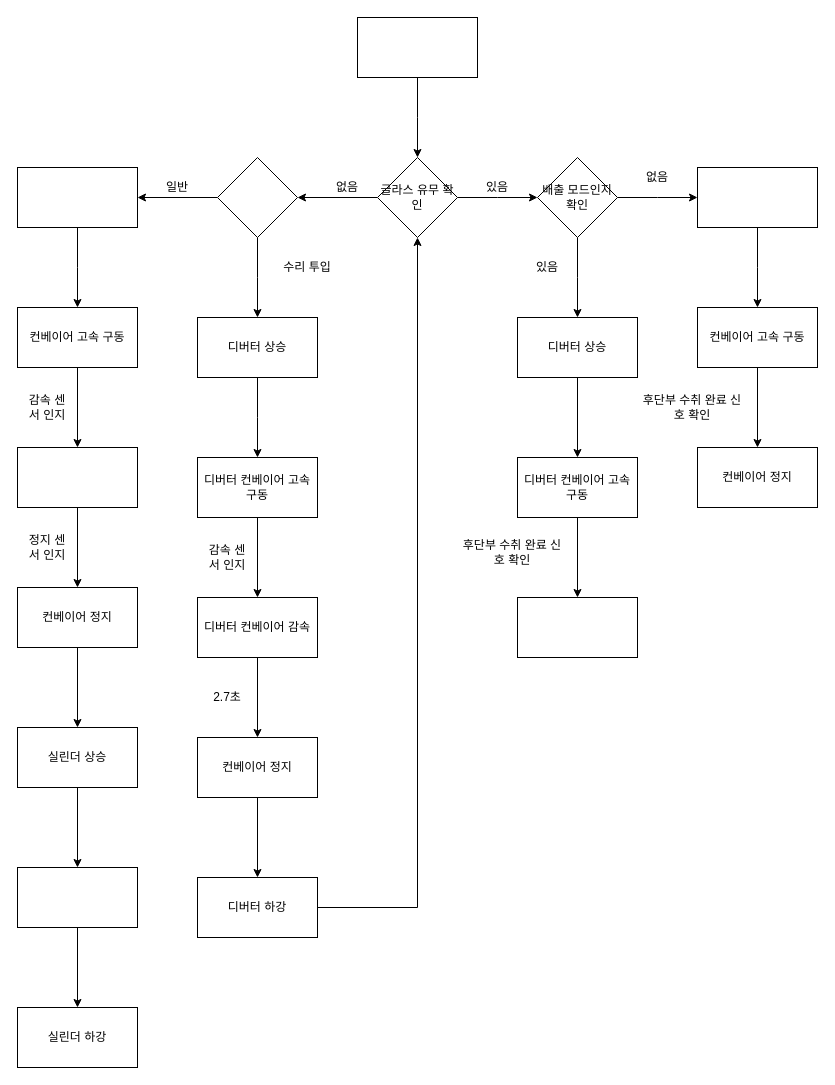
The diagram is 835 pixels wide and 1085 high, and some of its shapes have lost their labels. Here are the shapes that lost their labels. From the top down, the box of each, then its label:
(356, 16, 478, 78): 자동운전 시작
(16, 166, 138, 228): 수취 동작 시작
(216, 156, 298, 238): 투입 모드 확인
(696, 166, 818, 228): 배출 시작 (센터링)
(16, 446, 138, 508): 컨베이어 감속
(516, 596, 638, 658): 디버터 컨베이어 정지
(16, 866, 138, 928): Turn
